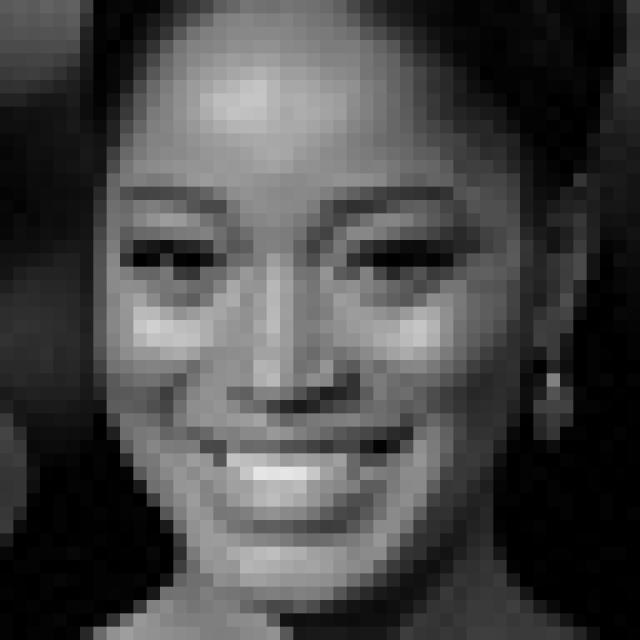happy: (114, 171, 495, 538)
